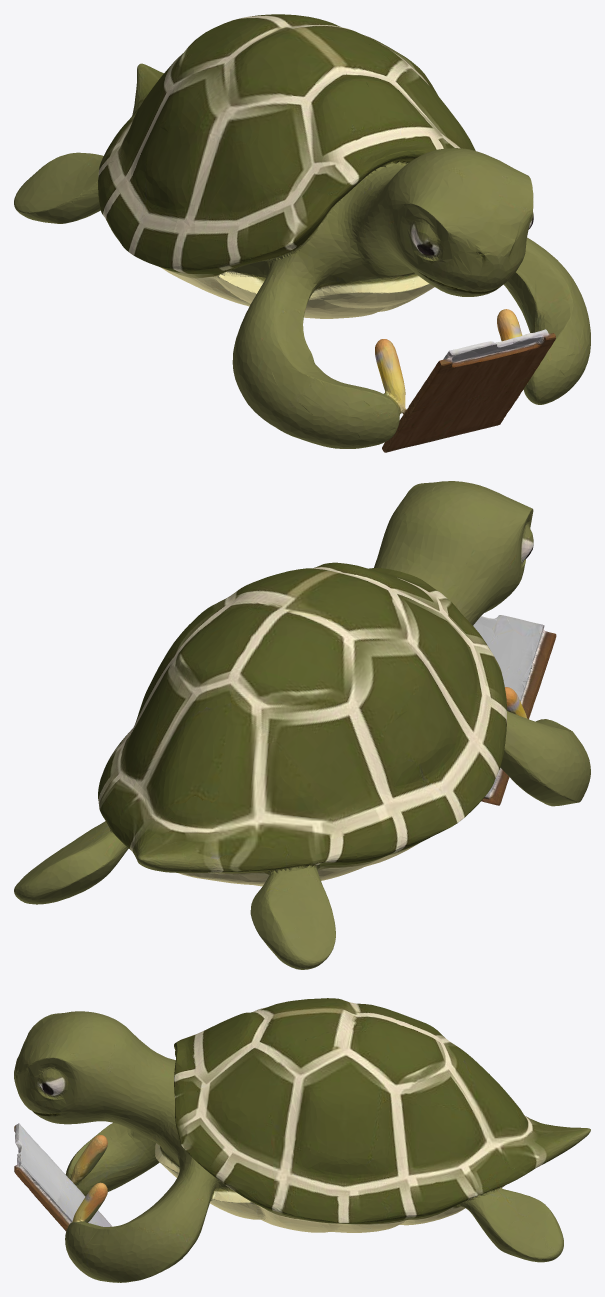
File: meshy-turtle.glb
3 views of the same model, one above another, from view 1: azimuth 30°, elevation 25°; view 2: azimuth 150°, elevation 25°; view 3: azimuth 270°, elevation 25° (orthographic). The views are drawn at different scales.
Visible parts, largest first — view 1: mesh_node; view 2: mesh_node; view 3: mesh_node.
Boxes of the visible parts, box(x1,y1,x2,y2) form: mesh_node: box(14, 14, 590, 452); mesh_node: box(14, 481, 590, 969); mesh_node: box(14, 998, 590, 1282).
Bounding box in the file's own units: 0.9284 × 0.8106 × 1.74.
Materials: 1 (1 with a texture image).
